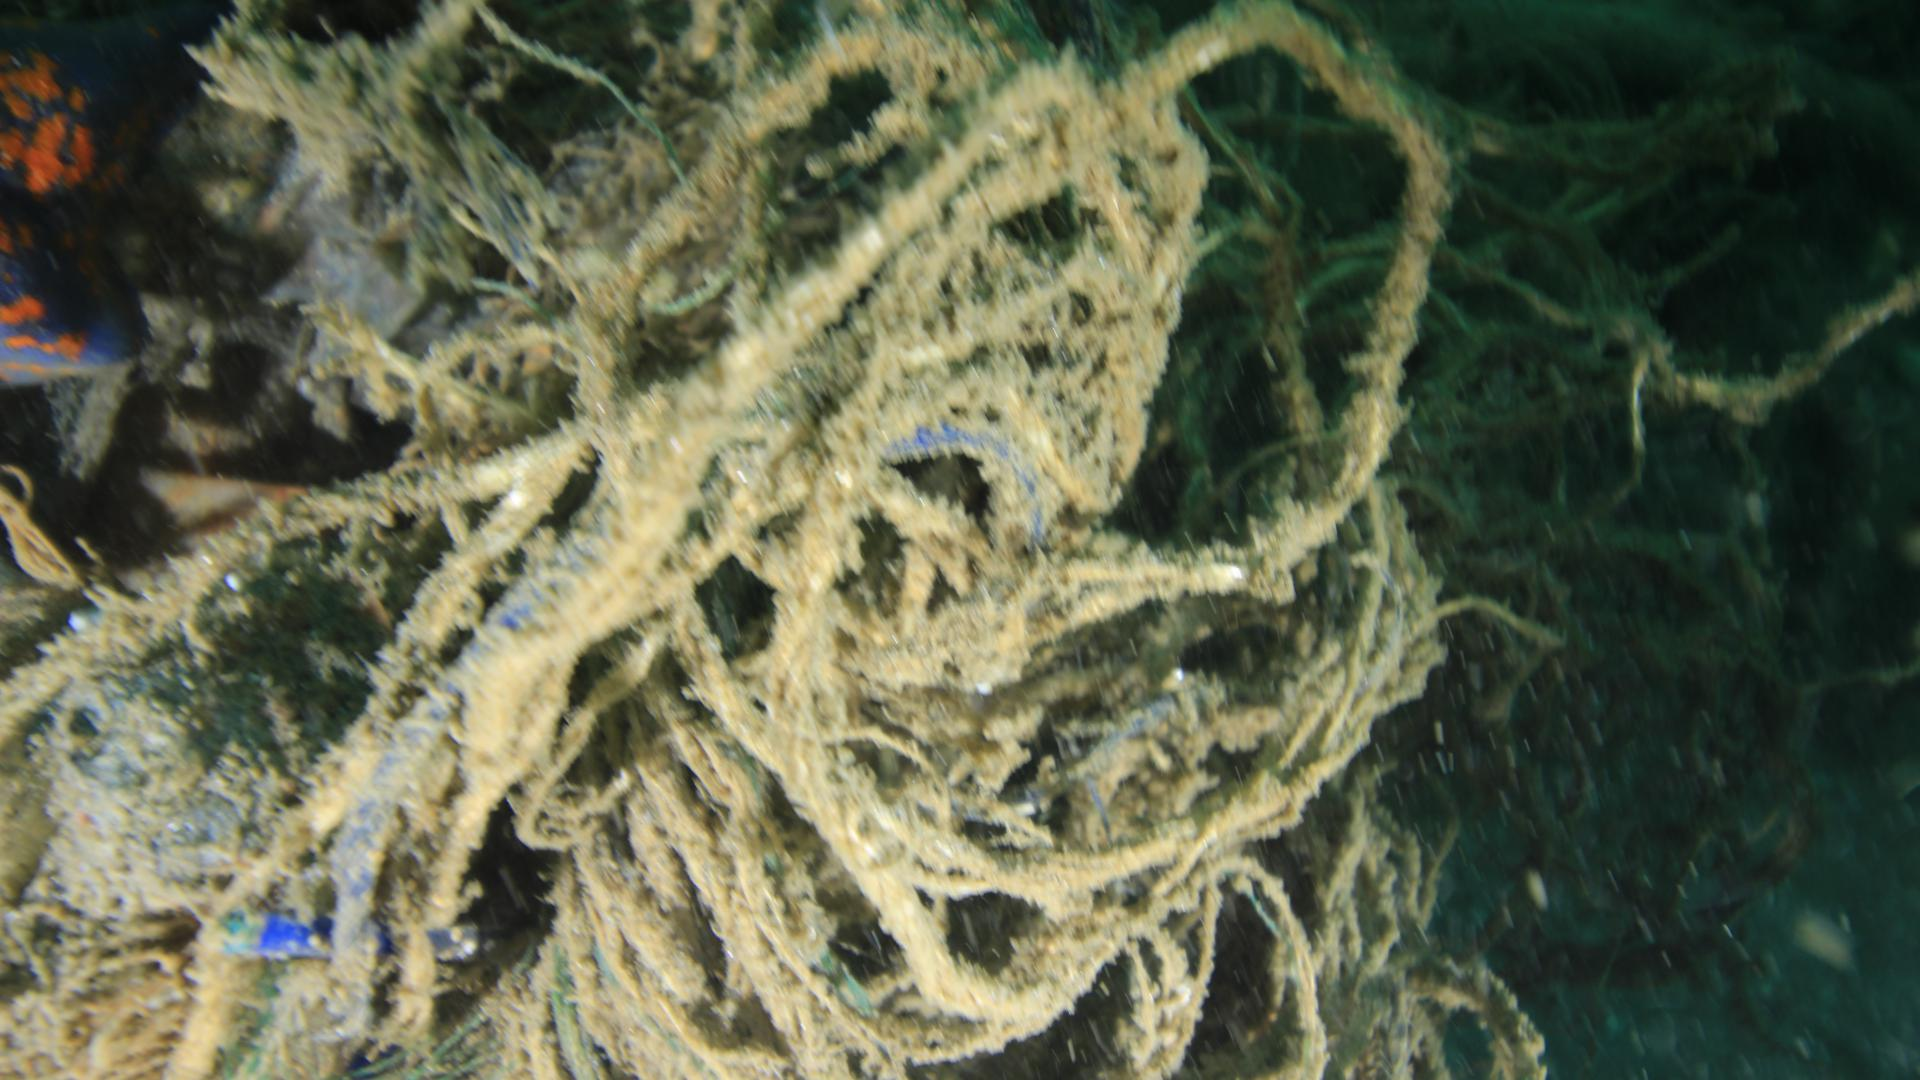bundle of ropes: (0, 0, 1455, 1080)
